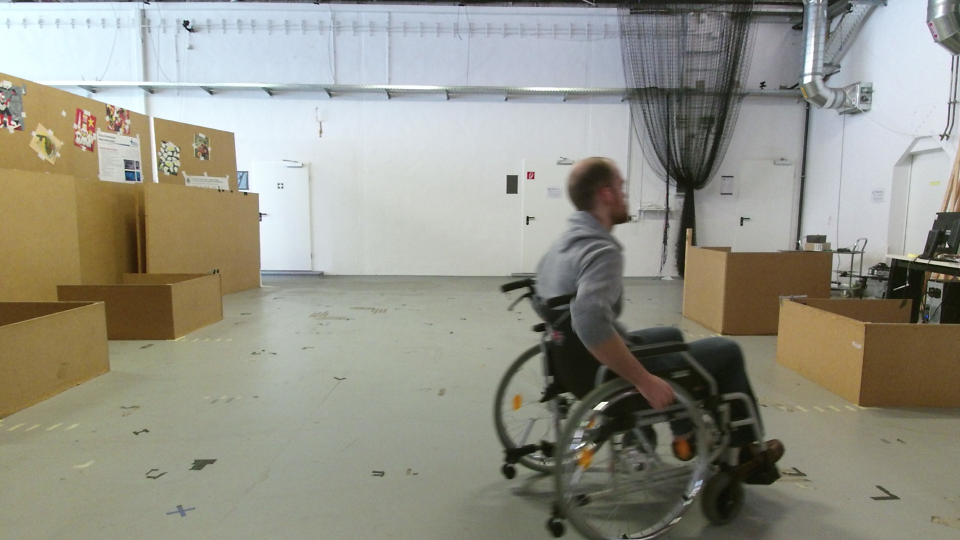wheelchair: (496, 154, 785, 540)
